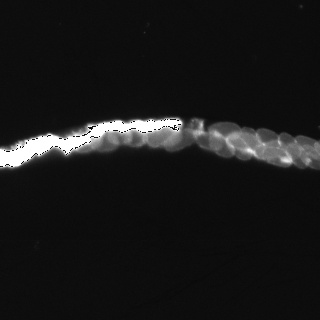embryo: (143, 127, 183, 148), (163, 128, 196, 152), (241, 127, 267, 157), (262, 144, 293, 169), (225, 134, 254, 160), (76, 125, 105, 151), (208, 133, 236, 159), (254, 139, 287, 160), (286, 143, 311, 169), (278, 132, 303, 158), (256, 127, 283, 150), (209, 122, 243, 140), (194, 131, 224, 151), (227, 132, 261, 149), (125, 127, 148, 148), (96, 134, 119, 152), (109, 128, 132, 145)
